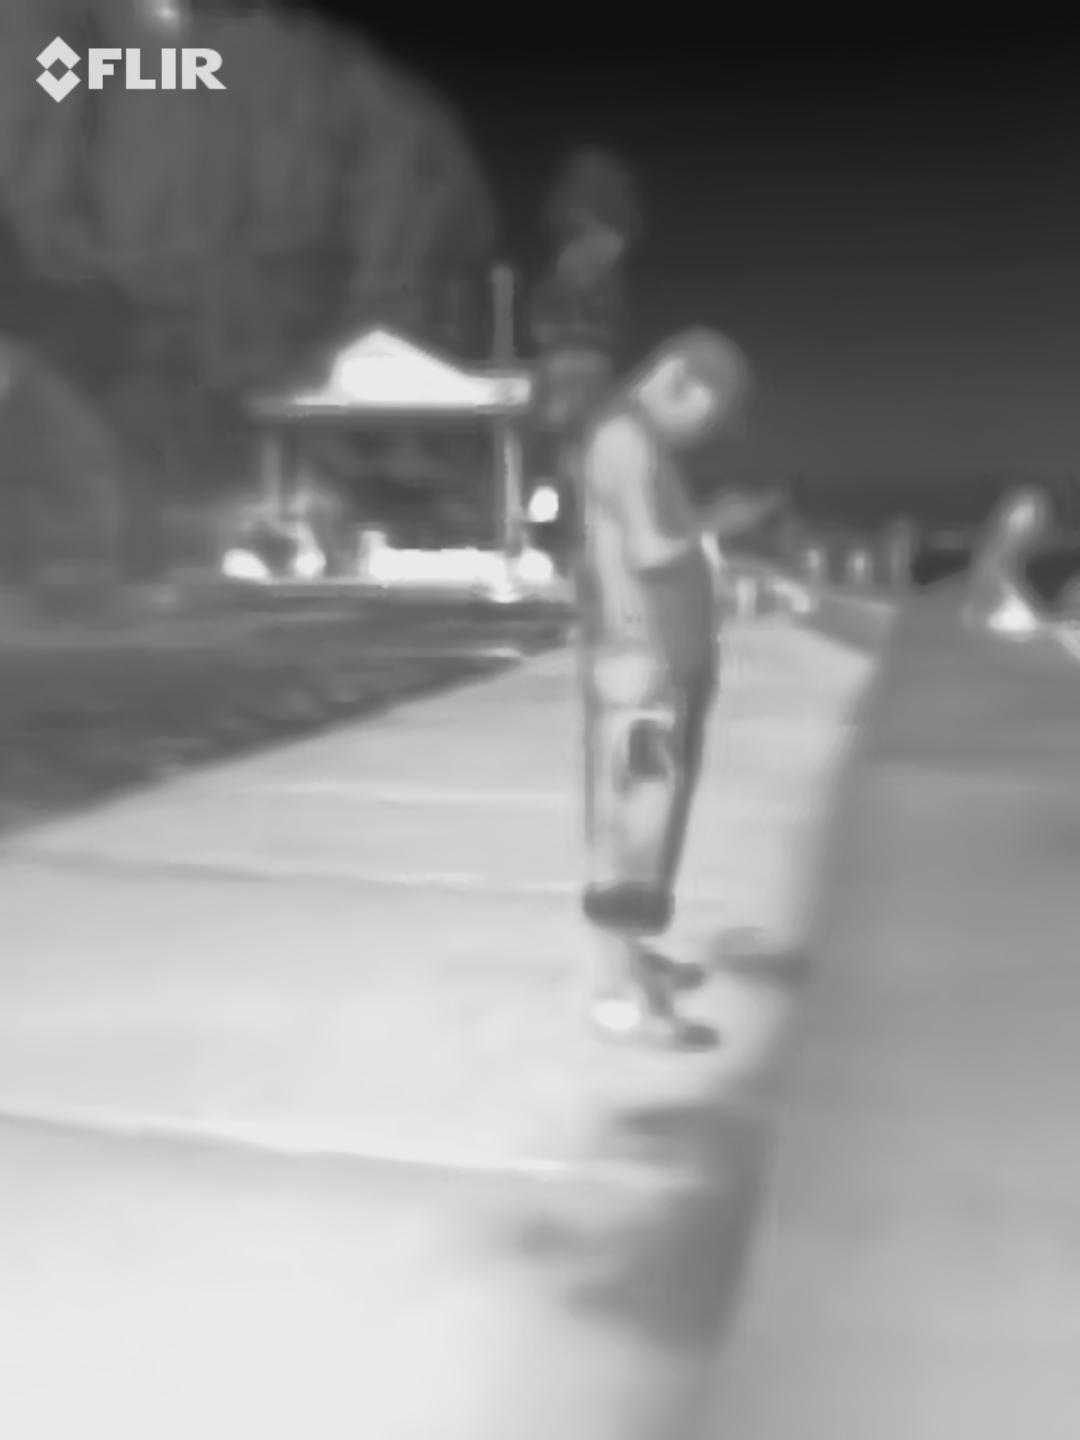head: (639, 321, 760, 451)
